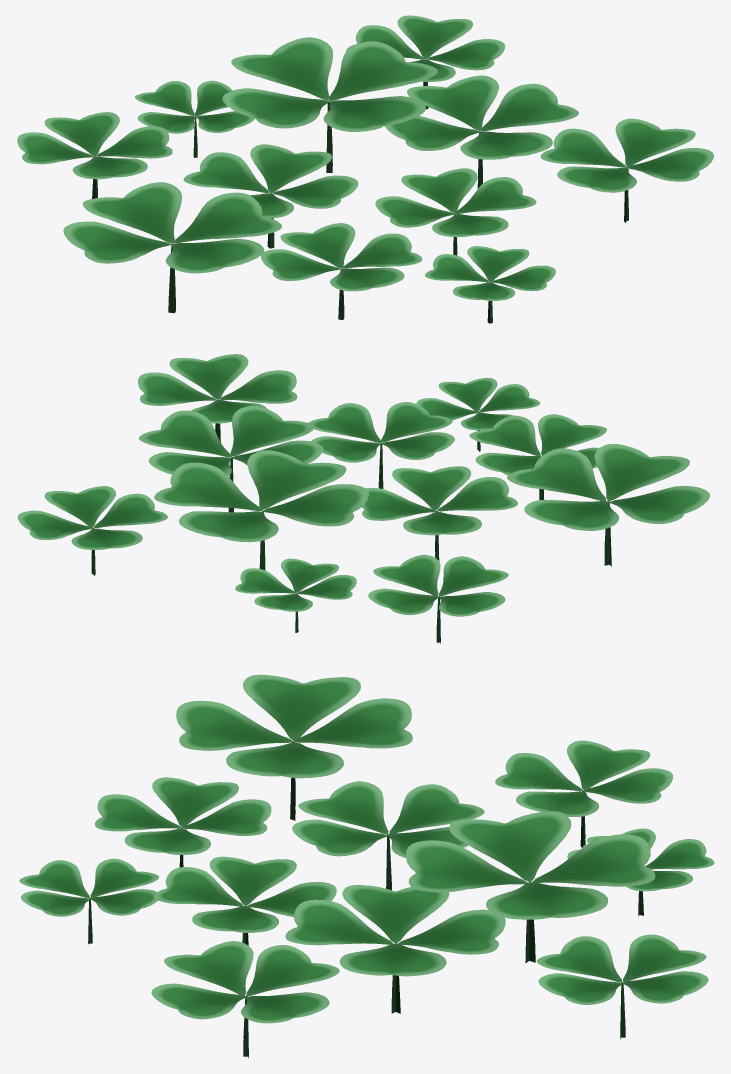
The model's file is SM_Clover_Cluster.fbx.
The picture shows the model from 3 angles, top to bottom: view 1: azimuth 30°, elevation 25°; view 2: azimuth 150°, elevation 25°; view 3: azimuth 270°, elevation 25°; orthographic projection. The views are drawn at different scales.
Parts seen in each view (by area): view 1: SM_Clover_Cluster; view 2: SM_Clover_Cluster; view 3: SM_Clover_Cluster.
Part boxes in pixels (box(x1,y1,x2,y2)): SM_Clover_Cluster: box(17, 15, 713, 323); SM_Clover_Cluster: box(17, 354, 709, 643); SM_Clover_Cluster: box(19, 674, 714, 1058).
Size of the model in its own units: 98.74 by 87.17 by 13.75.
1 material, 1 textured.
